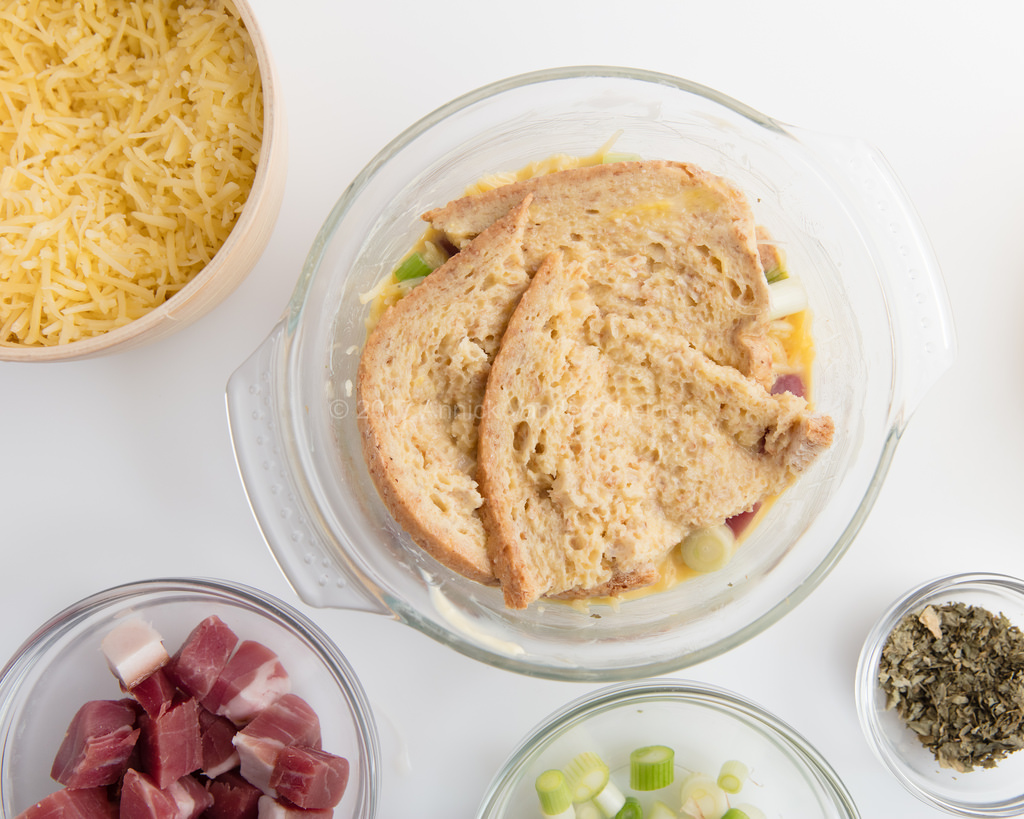slice of bread: (370, 268, 781, 504)
